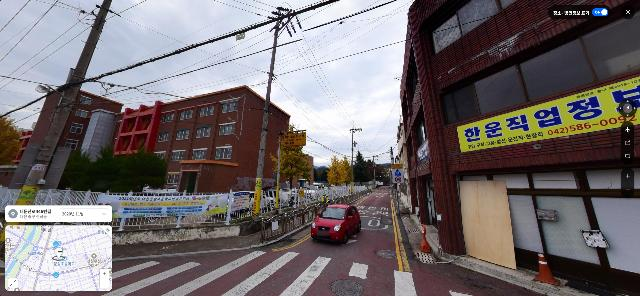ginkgo: (268, 124, 312, 207), (326, 154, 352, 186)
other: (57, 145, 168, 191), (1, 116, 27, 170), (353, 150, 372, 186), (312, 165, 328, 186)
